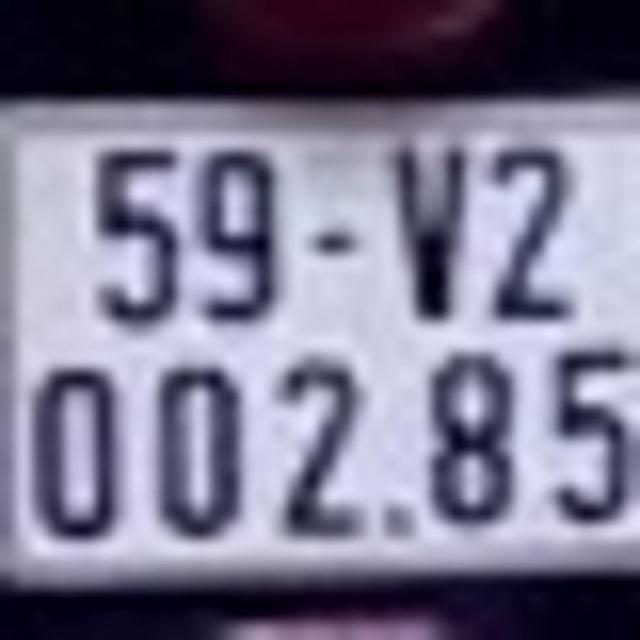0: (156, 356, 248, 538), (34, 361, 121, 538)
2: (270, 338, 372, 541), (489, 136, 586, 331)
5: (94, 136, 184, 333), (546, 332, 636, 519)
8: (430, 335, 520, 529)
9: (196, 146, 285, 328)
V: (397, 146, 475, 321)
